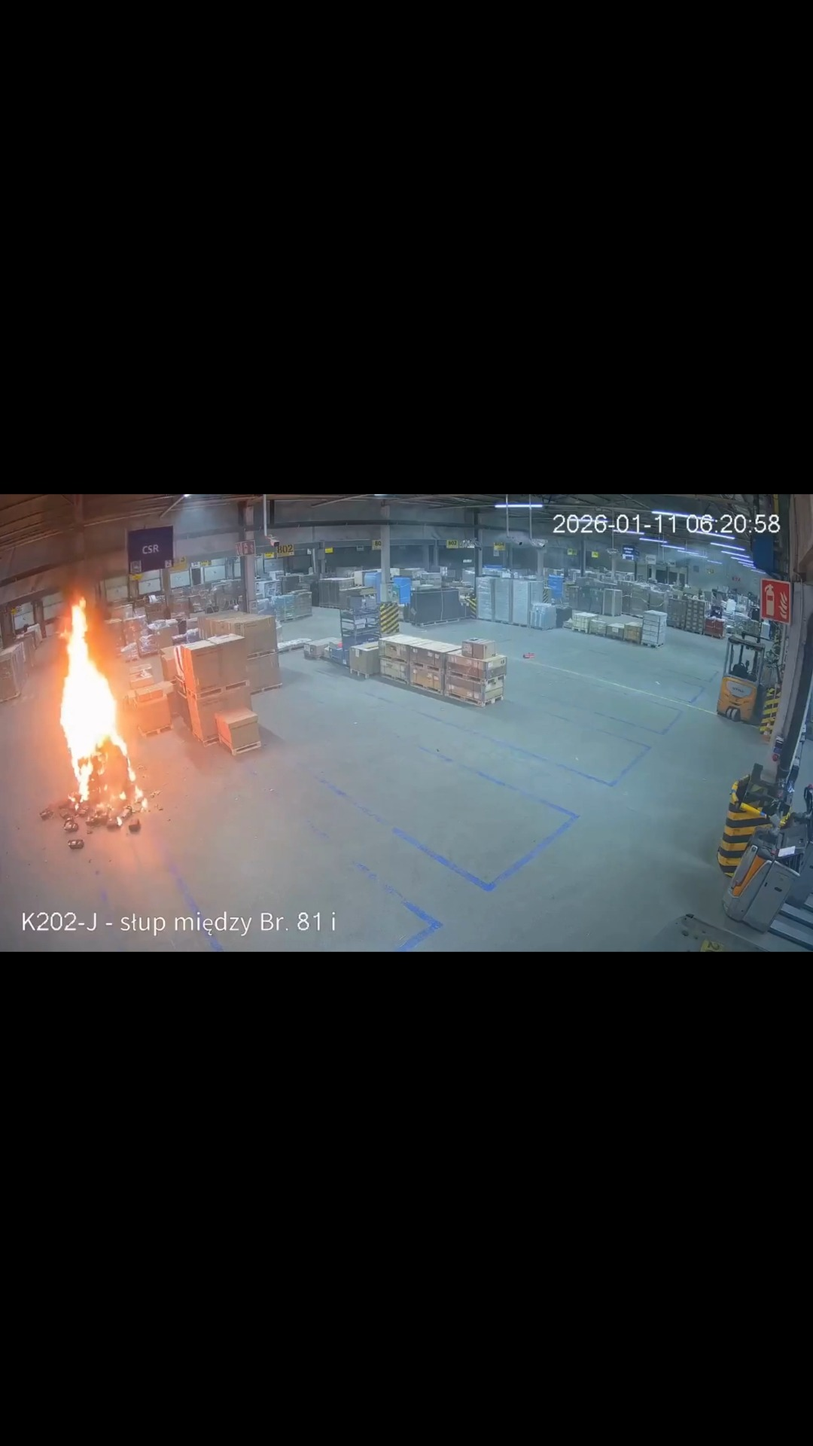fire: (57, 595, 148, 819)
smoke: (51, 502, 158, 651)
